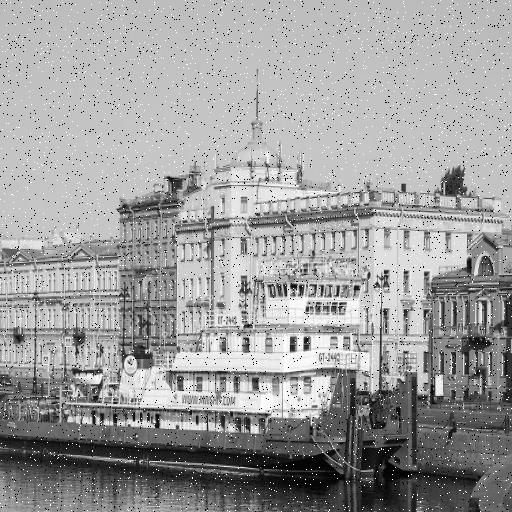tugboat: (1, 252, 422, 495)
